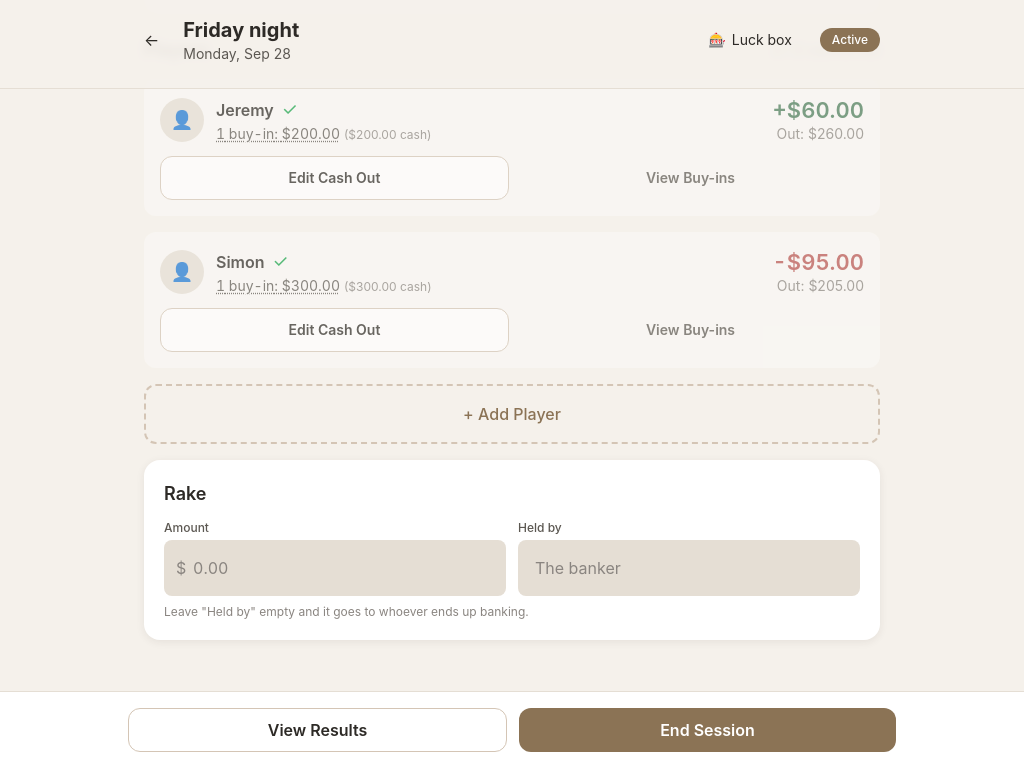
Test: SessionDetail: rake counted with the stacks › shows the pot $35 short until the rake is entered, then balanced
(page scrolled)
In the number field labelled "Amount": x=335, y=568 x1=164 y1=540 x2=506 y2=596, type "35"
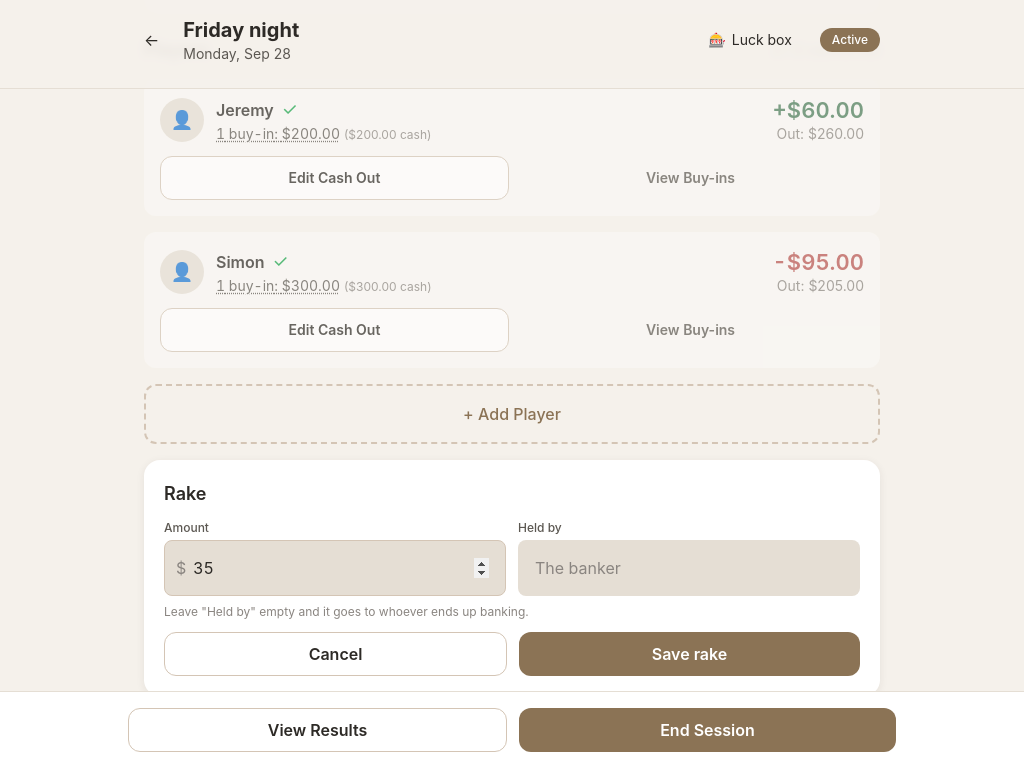
Click the button "Save rake": x=690, y=654 x1=519 y1=632 x2=860 y2=676
(page scrolled)
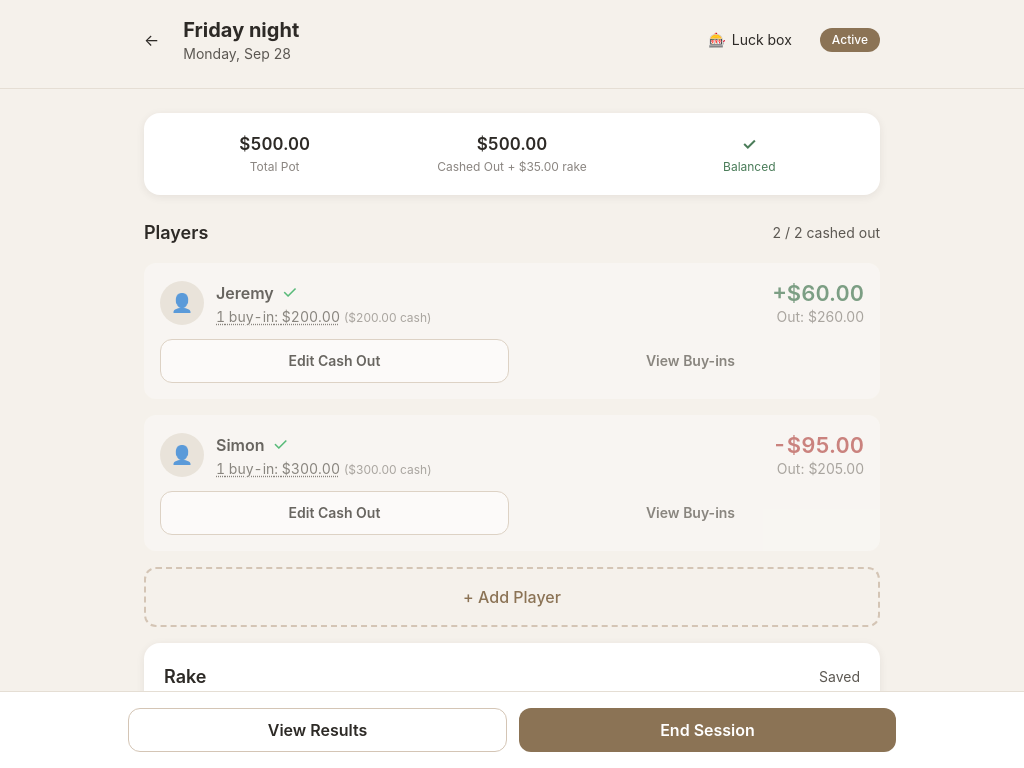
Check: the text "Balanced" is shown, box x1=723 y1=159 x2=776 y2=174
